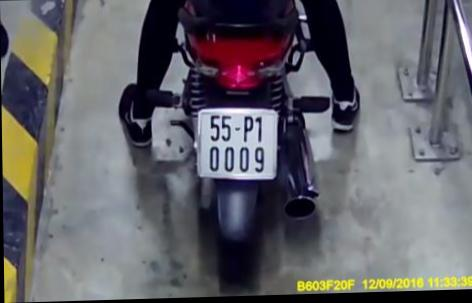LP: (197, 108, 279, 182)
